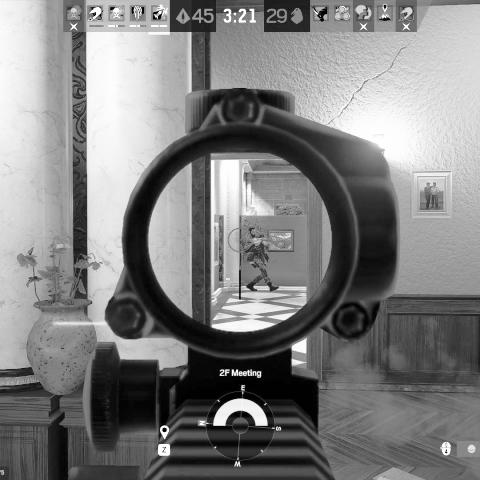Character: (242, 224, 282, 293)
Head: (247, 225, 259, 238)
